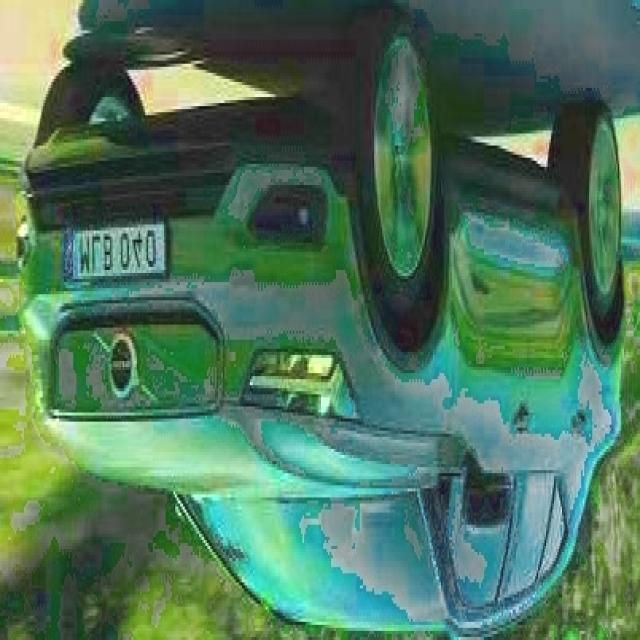green: (15, 18, 622, 637)
